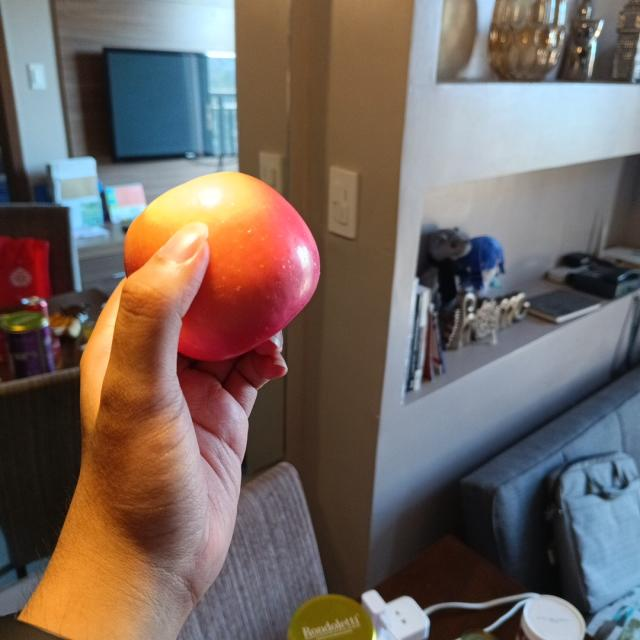apple: (124, 169, 319, 359)
